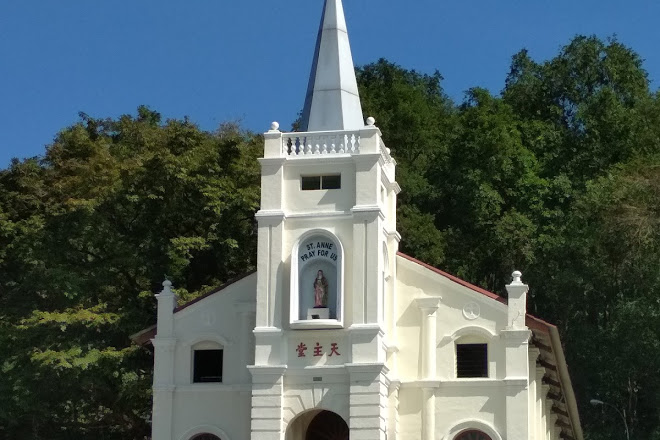Church: (142, 2, 555, 434)
